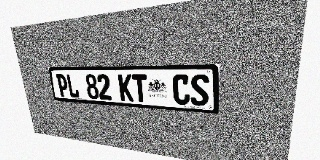2: (96, 74, 112, 100)
8: (85, 74, 99, 99)
C: (172, 74, 190, 105)
K: (118, 74, 134, 102)
L: (66, 74, 80, 98)
P: (56, 74, 69, 97)
S: (190, 74, 209, 106)
T: (132, 74, 148, 102)
